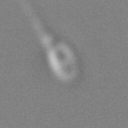abnormal: (15, 1, 52, 47)
